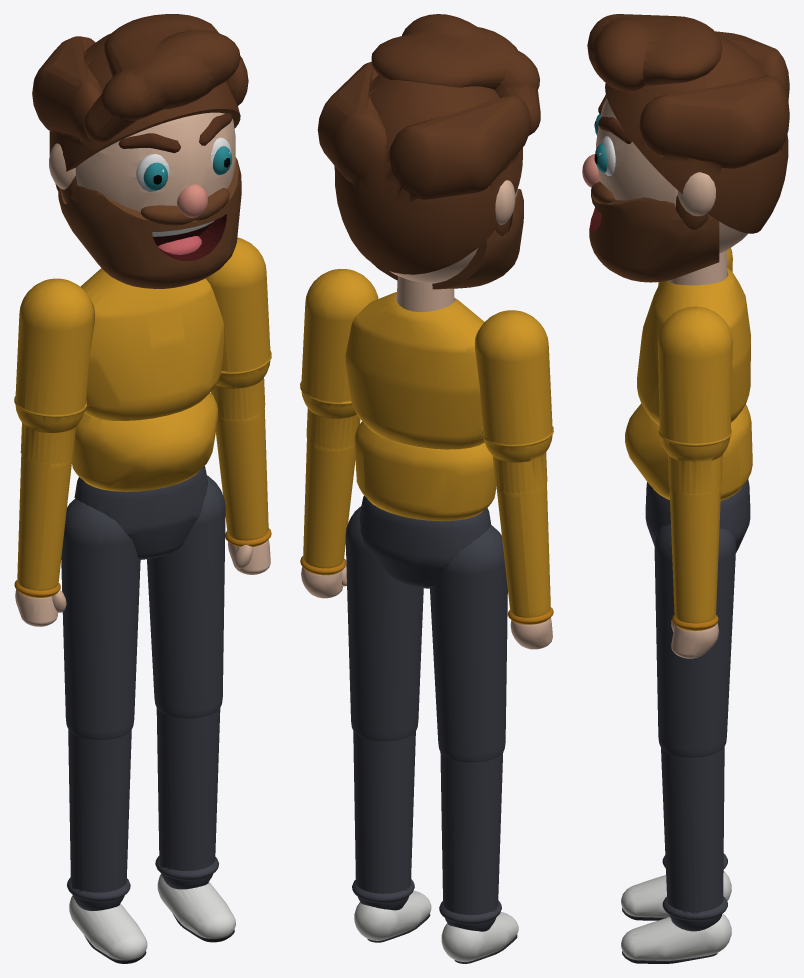
The model's file is fb_klaas_faak.glb.
The picture shows the model from 3 angles, left to right: view 1: azimuth 30°, elevation 25°; view 2: azimuth 150°, elevation 25°; view 3: azimuth 270°, elevation 25°; orthographic projection.
Visible parts, largest first — view 1: creature; view 2: creature; view 3: creature.
Boxes of the visible parts, bbox=[...] form: creature: bbox=[14, 14, 271, 963]; creature: bbox=[300, 14, 553, 963]; creature: bbox=[582, 14, 789, 963].
Size of the model in its own units: 0.286 by 1 by 0.2042.
